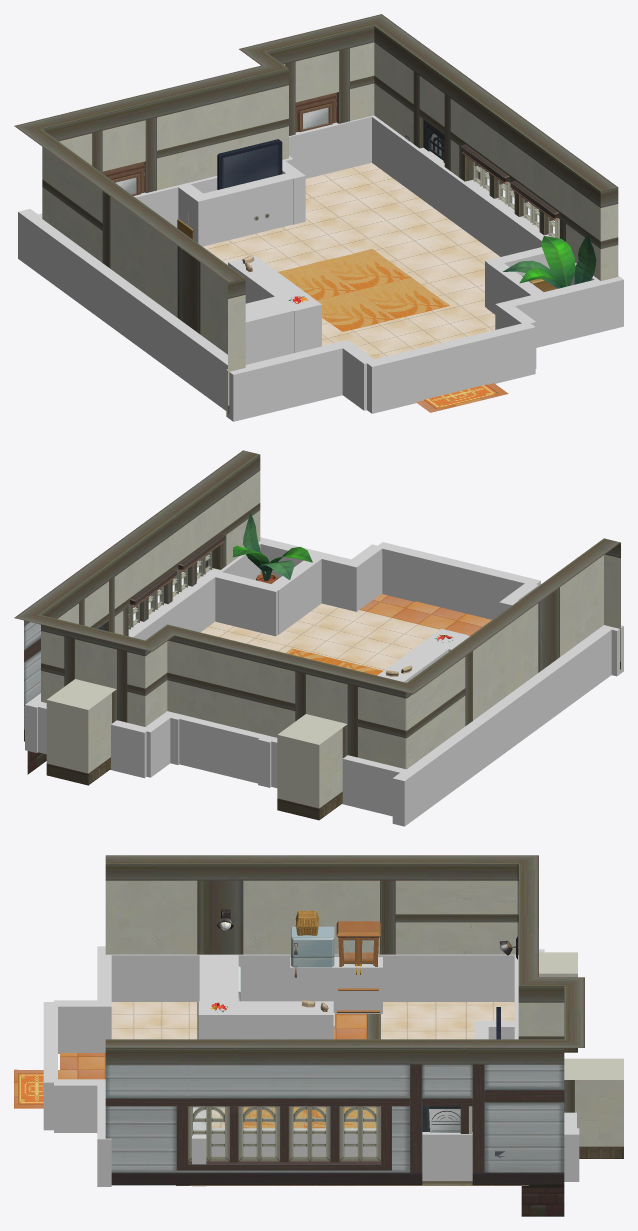
File: GameHouse.opt.glb
3 views of the same model, one above another, from view 1: azimuth 30°, elevation 25°; view 2: azimuth 150°, elevation 25°; view 3: azimuth 270°, elevation 25° (orthographic). The views are drawn at different scales.
Visible parts, largest first — view 1: Scene, COLL_All6, COLL_All3, COLL_All7, COLL_All2, COLL_All1, COLL_All15, COLL_All9, COLL_All13, COLL_All18, COLL_All10, COLL_All5 (+5 smaller); view 2: Scene, COLL_All6, COLL_All12, COLL_All3, COLL_All7, COLL_All11, COLL_All1, COLL_All10, COLL_All9, COLL_All8, COLL_All18, COLL_All4 (+3 smaller); view 3: Scene, COLL_All6, COLL_All7, COLL_All18, COLL_All14, COLL_All5, COLL_All4, COLL_All13, COLL_All3, COLL_All1, COLL_All2, COLL_All11 (+1 smaller).
Part boxes in pixels (x1,y1,x2,y2): Scene: (14, 14, 618, 413); COLL_All6: (18, 209, 247, 410); COLL_All3: (365, 322, 535, 413); COLL_All7: (371, 115, 597, 285); COLL_All2: (226, 340, 354, 421); COLL_All1: (495, 276, 623, 347); COLL_All15: (192, 173, 295, 246); COLL_All9: (289, 116, 371, 178); COLL_All13: (245, 290, 307, 364); COLL_All18: (228, 255, 321, 352); COLL_All10: (487, 263, 543, 314); COLL_All5: (342, 340, 375, 410); Scene: (14, 450, 620, 820); COLL_All6: (392, 625, 613, 826); COLL_All12: (172, 713, 406, 816); COLL_All3: (376, 542, 540, 620); COLL_All7: (25, 541, 262, 752); COLL_All11: (197, 569, 282, 636); COLL_All1: (258, 537, 363, 611); COLL_All10: (268, 556, 321, 634); COLL_All9: (27, 702, 146, 778); COLL_All8: (140, 711, 175, 777); COLL_All18: (377, 628, 467, 682); COLL_All4: (345, 544, 382, 606); Scene: (14, 855, 623, 1216); COLL_All6: (103, 949, 544, 1001); COLL_All7: (105, 1128, 579, 1181); COLL_All18: (198, 1001, 333, 1039); COLL_All14: (290, 957, 382, 1013); COLL_All5: (54, 1000, 111, 1053); COLL_All4: (54, 1079, 105, 1132); COLL_All13: (199, 955, 238, 1014); COLL_All3: (43, 1002, 57, 1130); COLL_All1: (97, 1082, 111, 1186); COLL_All2: (97, 946, 111, 1003); COLL_All11: (192, 1107, 206, 1186).
Bounding box in the file's own units: 20.44 × 8.39 × 27.2.
Materials: 21 (21 with a texture image).
